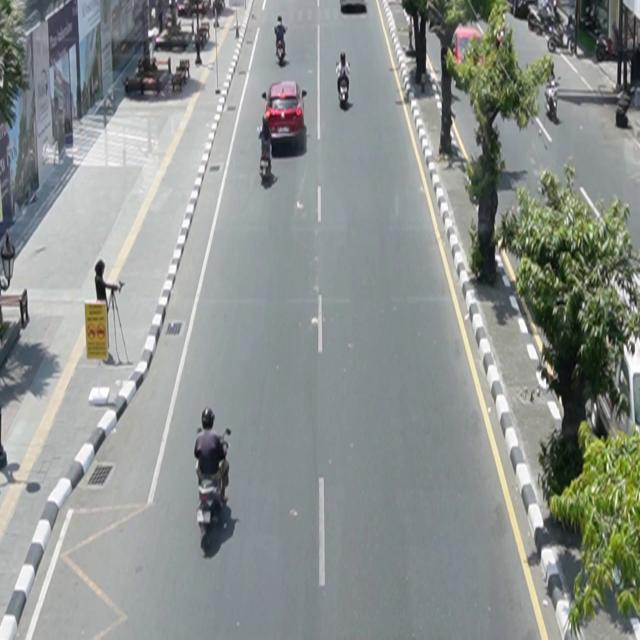car: (262, 80, 308, 148)
